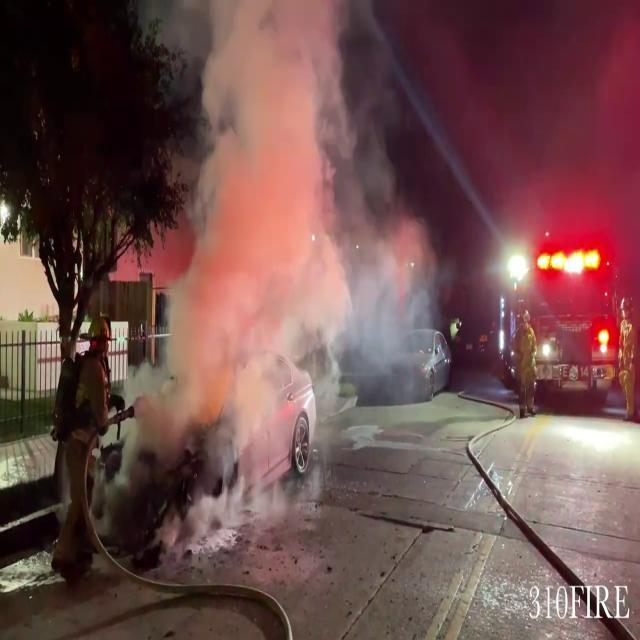Smoke: (122, 1, 433, 530)
